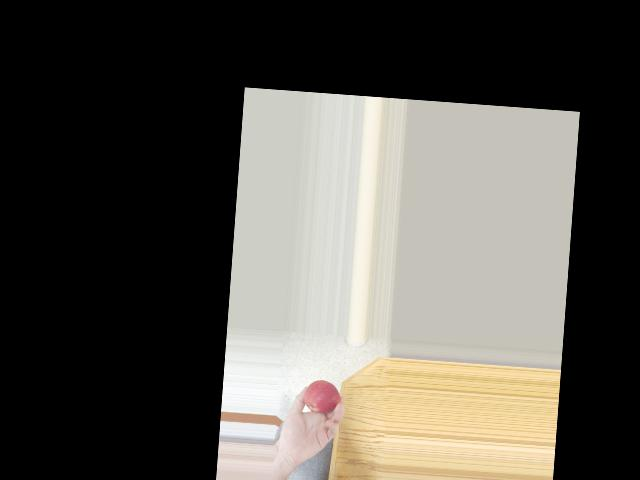apple: (301, 377, 342, 415)
